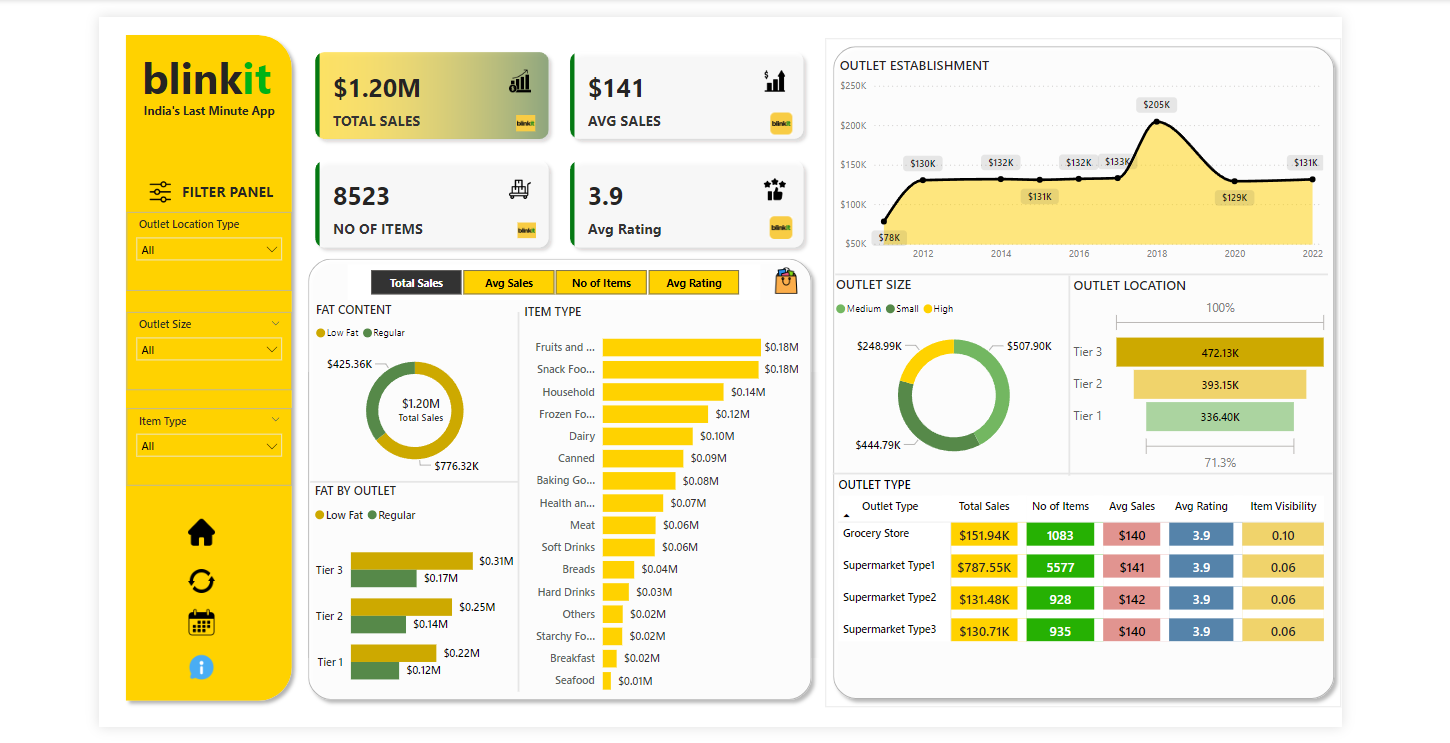

What the dashboard file says about the page in this screenshot:
{"tool":"powerbi","page":{"name":"Dashboard","canvas":[1400,800],"ordinal":0},"visuals":[{"type":"shape","box":[21.4,10.7,205.1,768.1],"z":0},{"type":"textbox","box":[32,30,177.1,75],"z":1000},{"type":"textbox","box":[32,92,183.1,28.5],"z":2000},{"type":"cardVisual","fields":{"Data":["BlinkIT Grocery Data.Total Sales","BlinkIT Grocery Data.Avg Sales","BlinkIT Grocery Data.No of Items","BlinkIT Grocery Data.Avg Rating"]},"box":[226.5,23,585,254.7],"z":3000},{"type":"shape","box":[226.5,264.1,585,515],"z":4000},{"type":"donutChart","title":"FAT CONTENT","fields":{"Y":["BlinkIT Grocery Data.Total Sales"],"Category":["BlinkIT Grocery Data.Item Fat Content"]},"box":[239.9,319,233.2,202.4],"z":5000},{"type":"slicer","fields":{"Values":["Metrix.Metrix"]},"box":[280.2,279,465.1,40.2],"z":6000},{"type":"cardVisual","fields":{"Data":["BlinkIT Grocery Data.Total Sales"]},"box":[307,410.2,111.3,63],"z":7000},{"type":"clusteredBarChart","title":"FAT BY OUTLET","fields":{"Y":["BlinkIT Grocery Data.Total Sales"],"Category":["BlinkIT Grocery Data.Outlet Location Type"],"Series":["BlinkIT Grocery Data.Item Fat Content"]},"box":[238.6,523.8,234.1,250.6],"z":8000},{"type":"shape","box":[238.6,520.1,234.6,8],"z":9000},{"type":"shape","box":[390.2,331.7,165.1,427.7],"z":10000},{"type":"barChart","title":"ITEM TYPE","fields":{"Y":["BlinkIT Grocery Data.Total Sales"],"Category":["BlinkIT Grocery Data.Item Type"]},"box":[472.8,319.7,319.7,453.3],"z":11000},{"type":"shape","box":[818,24,582.3,753.4],"z":12000},{"type":"lineChart","title":"OUTLET ESTABLISHMENT","fields":{"Y":["BlinkIT Grocery Data.Total Sales"],"Category":["BlinkIT Grocery Data.Outlet Establishment Year"]},"box":[825.4,36.6,554.9,240.8],"z":13000},{"type":"shape","box":[830,280.7,555.3,19.5],"z":14000},{"type":"donutChart","title":"OUTLET SIZE","fields":{"Y":["BlinkIT Grocery Data.Total Sales"],"Category":["BlinkIT Grocery Data.Outlet Size"]},"box":[825.5,289.7,276.2,225.1],"z":15000},{"type":"shape","box":[1087.1,290.9,12.1,225.2],"z":16000},{"type":"funnel","title":"OUTLET LOCATION","fields":{"Category":["BlinkIT Grocery Data.Outlet Location Type"],"Y":["Sum(BlinkIT Grocery Data.Sales)"]},"box":[1092.6,291.2,297.2,225.1],"z":17000},{"type":"shape","box":[827,508.8,562.8,12],"z":18000},{"type":"pivotTable","title":"OUTLET TYPE","fields":{"Rows":["BlinkIT Grocery Data.Outlet Type"],"Values":["BlinkIT Grocery Data.Total Sales","BlinkIT Grocery Data.No of Items","BlinkIT Grocery Data.Avg Sales","BlinkIT Grocery Data.Avg Rating","Avg(BlinkIT Grocery Data.Item Visibility)"]},"box":[828.5,516.3,559.8,243.1],"z":19000},{"type":"slicer","fields":{"Values":["BlinkIT Grocery Data.Outlet Location Type"]},"box":[31.5,219.1,186.1,88.6],"z":20000},{"type":"slicer","fields":{"Values":["BlinkIT Grocery Data.Outlet Size"]},"box":[31.5,331.7,186.1,88],"z":21000},{"type":"slicer","fields":{"Values":["BlinkIT Grocery Data.Item Type"]},"box":[31.5,441.3,186.1,87.1],"z":22000},{"type":"textbox","box":[70,180,147.1,38.6],"z":23000},{"type":"image","box":[50,180,36,34],"z":24000},{"type":"image","box":[85.7,560,58.6,40],"z":25000},{"type":"image","box":[85.7,615.7,58.6,40],"z":26000},{"type":"image","box":[85.7,661.4,58.6,40],"z":27000},{"type":"image","box":[85.7,712.9,58.6,40],"z":28000},{"type":"image","box":[751,278,47.1,39],"z":29000},{"type":"image","box":[743.1,220,50,35.4],"z":30000},{"type":"image","box":[743.1,103.1,50,34.6],"z":31000},{"type":"image","box":[462.3,106.2,36.2,28.5],"z":32000},{"type":"image","box":[462,226.8,36.6,28.2],"z":33000}]}

Visuals, with their boxes on the page's 1400x800 design canvas (x1, y1, x2, y2). These are canvas units, not pixel positions in the 1450x743 screenshot, which may show the page scaled, cropped or inside an application window:
shape: Rect(21, 11, 226, 779)
textbox: Rect(32, 30, 209, 105)
textbox: Rect(32, 92, 215, 120)
cardVisual - BlinkIT Grocery Data.Total Sales x BlinkIT Grocery Data.Avg Sales: Rect(226, 23, 812, 278)
shape: Rect(226, 264, 812, 779)
"FAT CONTENT" donutChart: Rect(240, 319, 473, 521)
slicer - Metrix.Metrix: Rect(280, 279, 745, 319)
cardVisual - BlinkIT Grocery Data.Total Sales: Rect(307, 410, 418, 473)
"FAT BY OUTLET" clusteredBarChart: Rect(239, 524, 473, 774)
shape: Rect(239, 520, 473, 528)
shape: Rect(390, 332, 555, 759)
"ITEM TYPE" barChart: Rect(473, 320, 792, 773)
shape: Rect(818, 24, 1400, 777)
"OUTLET ESTABLISHMENT" lineChart: Rect(825, 37, 1380, 277)
shape: Rect(830, 281, 1385, 300)
"OUTLET SIZE" donutChart: Rect(826, 290, 1102, 515)
shape: Rect(1087, 291, 1099, 516)
"OUTLET LOCATION" funnel: Rect(1093, 291, 1390, 516)
shape: Rect(827, 509, 1390, 521)
"OUTLET TYPE" pivotTable: Rect(828, 516, 1388, 759)
slicer - BlinkIT Grocery Data.Outlet Location Type: Rect(32, 219, 218, 308)
slicer - BlinkIT Grocery Data.Outlet Size: Rect(32, 332, 218, 420)
slicer - BlinkIT Grocery Data.Item Type: Rect(32, 441, 218, 528)
textbox: Rect(70, 180, 217, 219)
image: Rect(50, 180, 86, 214)
image: Rect(86, 560, 144, 600)
image: Rect(86, 616, 144, 656)
image: Rect(86, 661, 144, 701)
image: Rect(86, 713, 144, 753)
image: Rect(751, 278, 798, 317)
image: Rect(743, 220, 793, 255)
image: Rect(743, 103, 793, 138)
image: Rect(462, 106, 498, 135)
image: Rect(462, 227, 499, 255)
